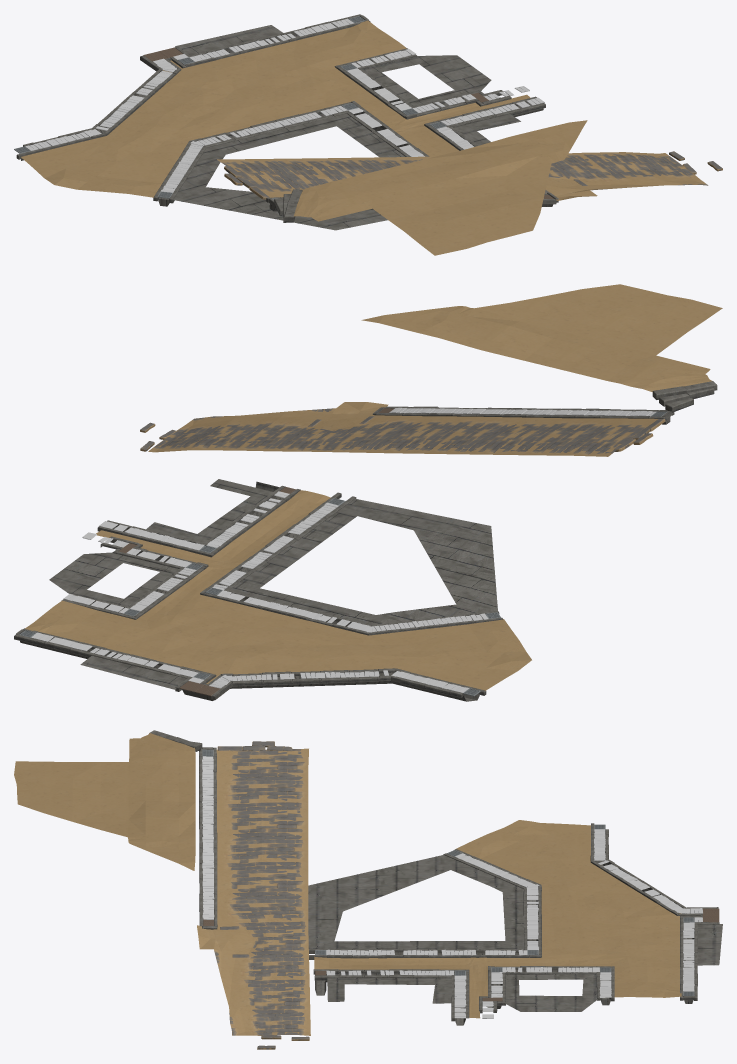
File: SM_ENV_KNVLLG_ground_13.mo.fbx
The picture shows the model from 3 angles, top to bottom: view 1: azimuth 30°, elevation 25°; view 2: azimuth 150°, elevation 25°; view 3: azimuth 270°, elevation 25°; orthographic projection. The views are drawn at different scales.
Visible parts, largest first — view 1: SM_ENV_KNVLLG_ground_13.mo; view 2: SM_ENV_KNVLLG_ground_13.mo; view 3: SM_ENV_KNVLLG_ground_13.mo.
Boxes of the visible parts, box(x1,y1,x2,y2) form: SM_ENV_KNVLLG_ground_13.mo: box(14, 14, 722, 255); SM_ENV_KNVLLG_ground_13.mo: box(14, 284, 722, 701); SM_ENV_KNVLLG_ground_13.mo: box(14, 730, 722, 1049).
Size of the model in its own units: 47.48 by 11.09 by 62.96.
